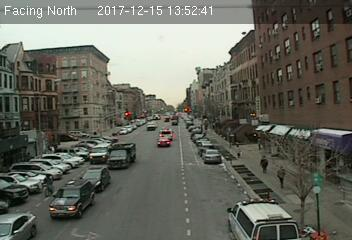bicycle: (42, 174, 55, 196)
car: (50, 181, 93, 216), (1, 211, 38, 240), (81, 167, 110, 190), (201, 148, 222, 162), (158, 128, 173, 139), (157, 136, 169, 145)
pedestrian: (276, 165, 286, 190), (261, 155, 269, 179)
police: (225, 197, 300, 240)
truck: (106, 143, 136, 170), (90, 143, 112, 162)
